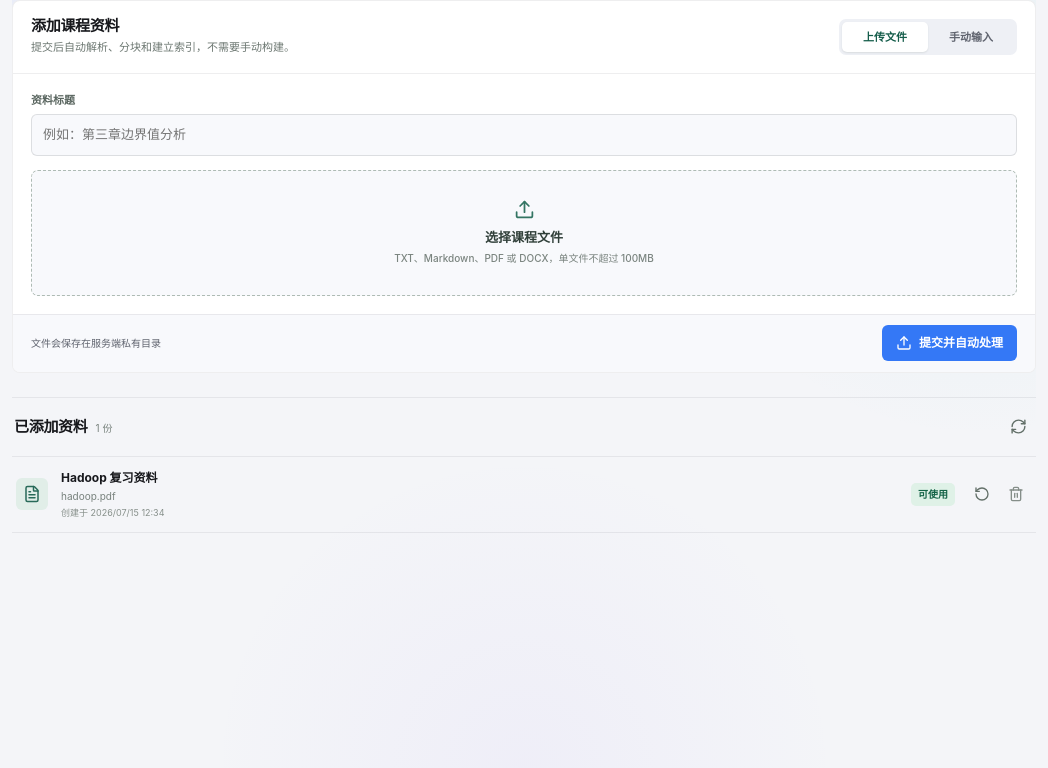
Test: MaterialWorkspace › shows creation time and deletes a confirmed material
Click the button with class "delete-button" at (1016, 494), box left=1000, top=478, right=1032, bottom=510
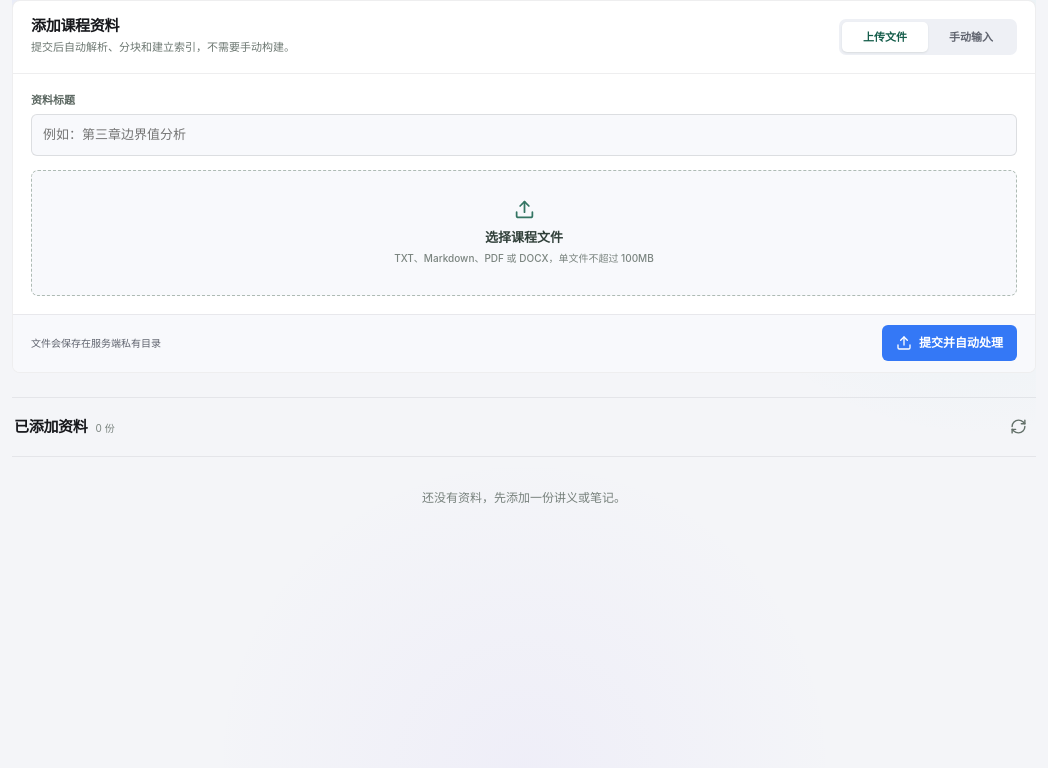
Expected: the text "Hadoop 复习资料" is gone
